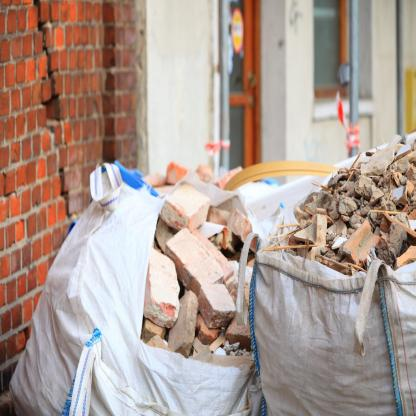brick: (0, 1, 416, 414)
